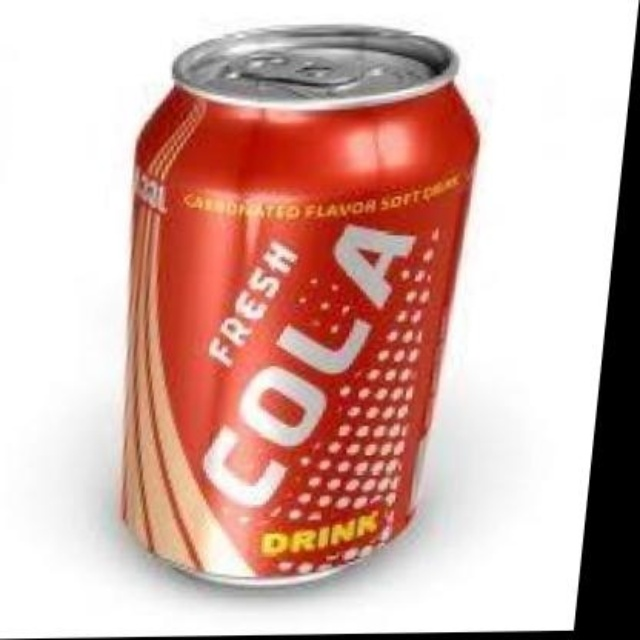trash: (123, 25, 477, 585)
